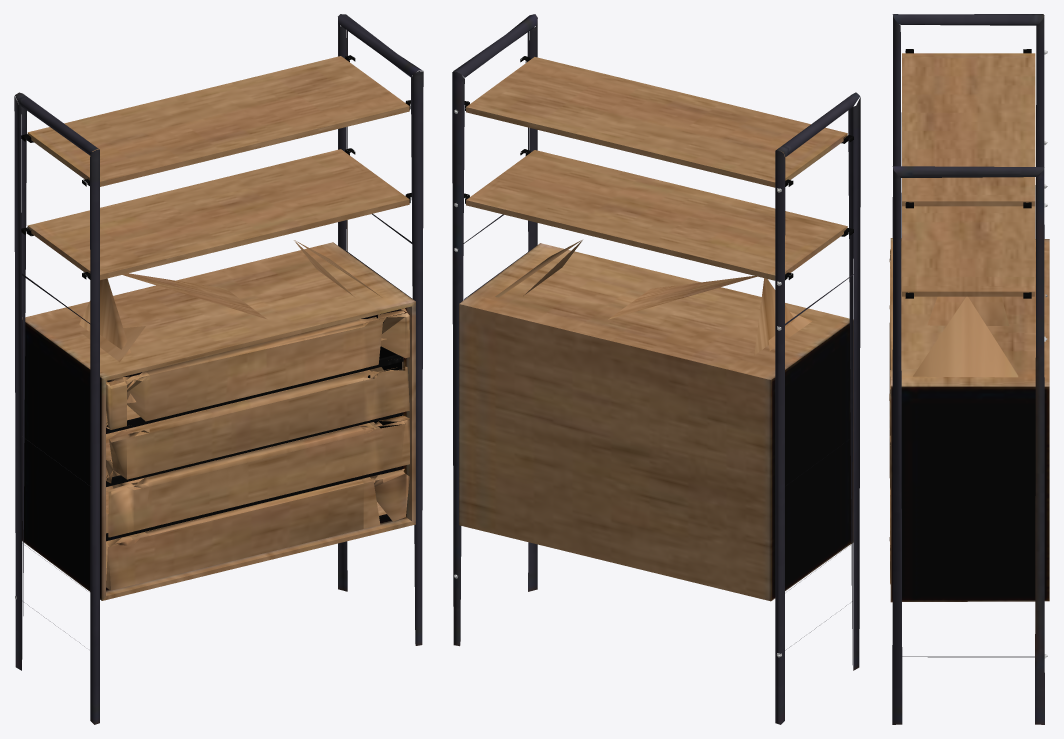
File: drawer_cabinet.glb
3 views of the same model, side by side, from view 1: azimuth 30°, elevation 25°; view 2: azimuth 150°, elevation 25°; view 3: azimuth 270°, elevation 25° (orthographic). The views are drawn at different scales.
Parts seen in each view (by area): view 1: drawer_cabinet; view 2: drawer_cabinet; view 3: drawer_cabinet.
Part boxes in pixels (bbox=[...]): drawer_cabinet: bbox=[14, 14, 423, 724]; drawer_cabinet: bbox=[452, 14, 860, 724]; drawer_cabinet: bbox=[889, 14, 1049, 724].
Size of the model in its own units: 1.13 by 1.88 by 0.4901.
1 material, 1 textured.
